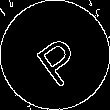P_NW: (25, 24, 85, 86)
